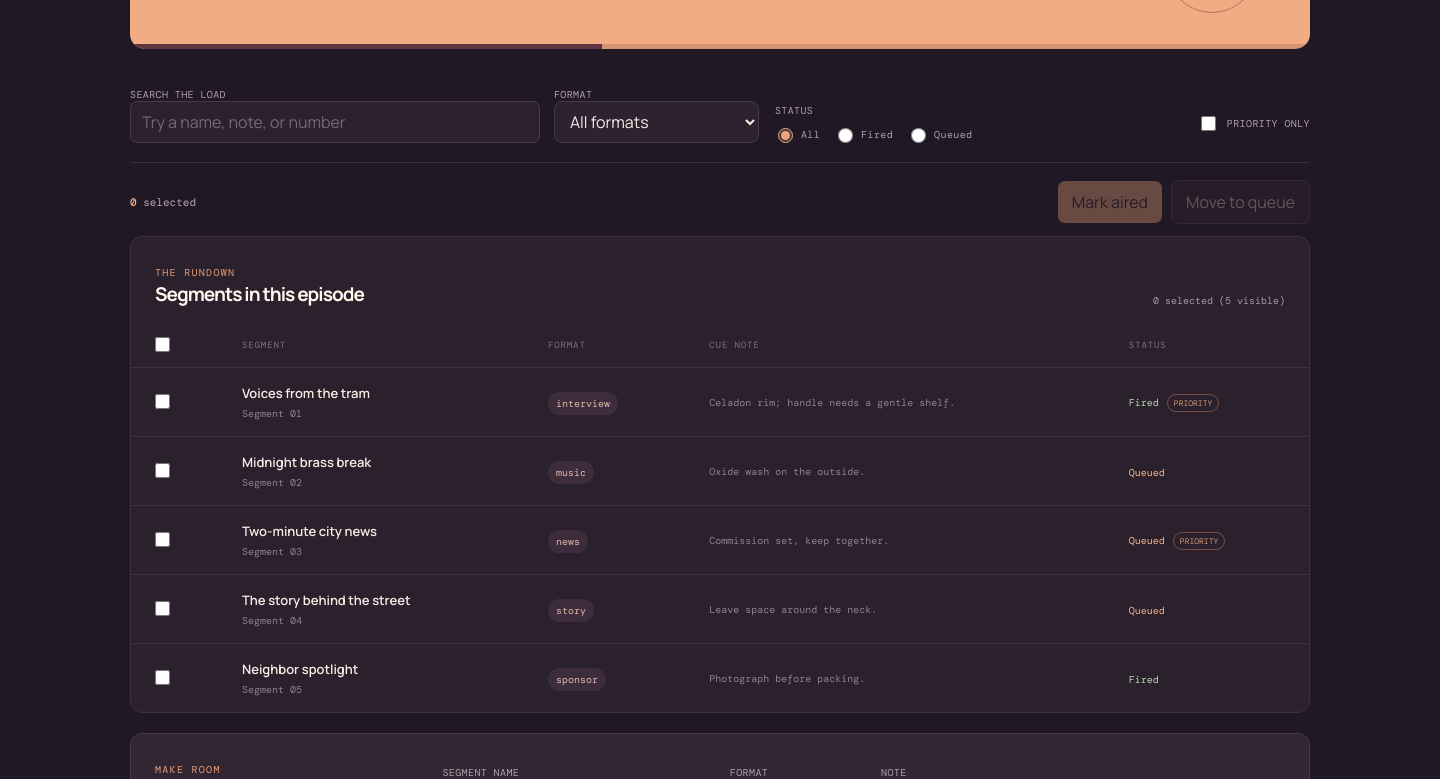
Test: RadioFable app › keeps selection when a status filter hides it
(page scrolled)
Click the checkbox named "Select Voices from the tram": (162, 402) [155,394,170,409]
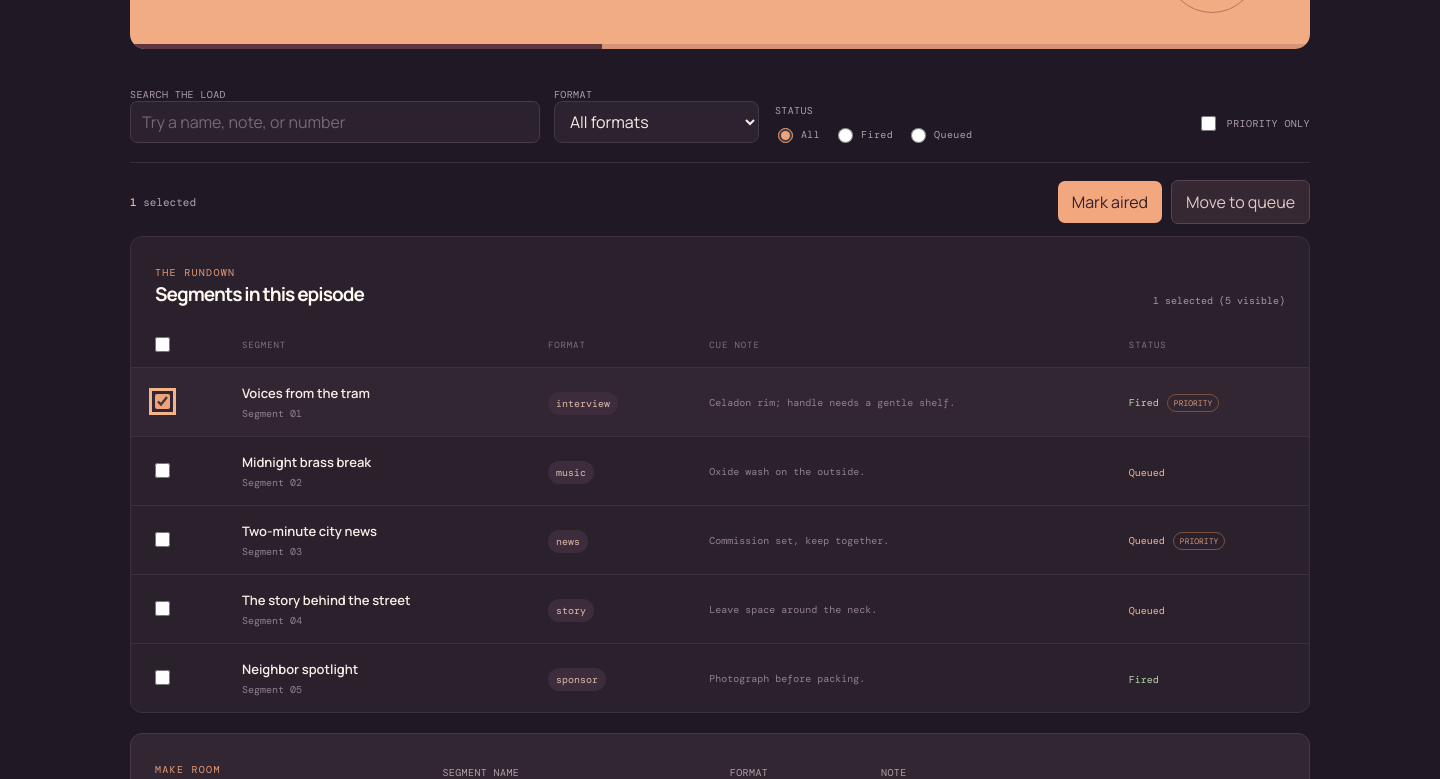
Click the radio button labelled "Queued": (919, 136) [911,128,926,143]
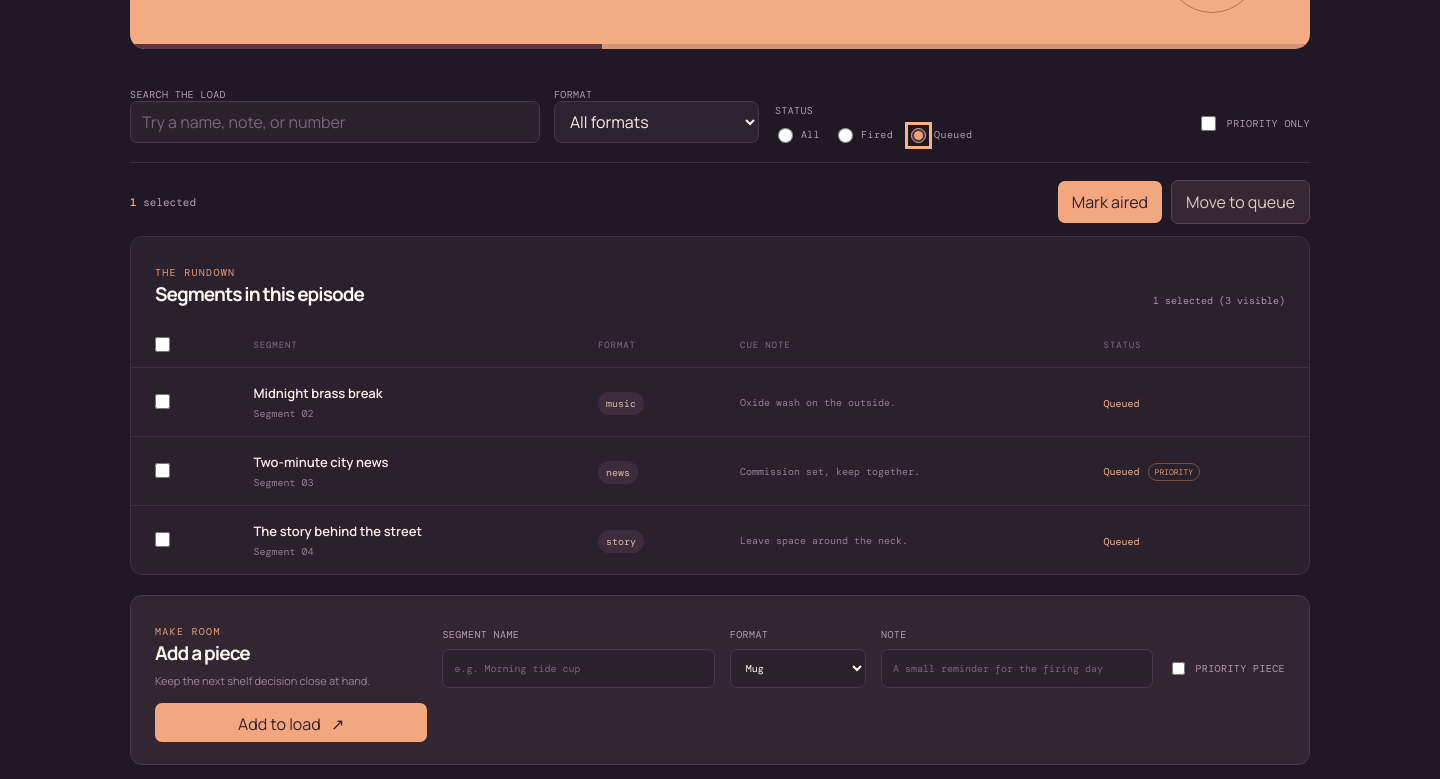
Expected: the text "1 selected (3 visible)" is shown, [1153,294,1285,307]
Click the radio button labelled "All": (785, 136) [778,128,793,143]
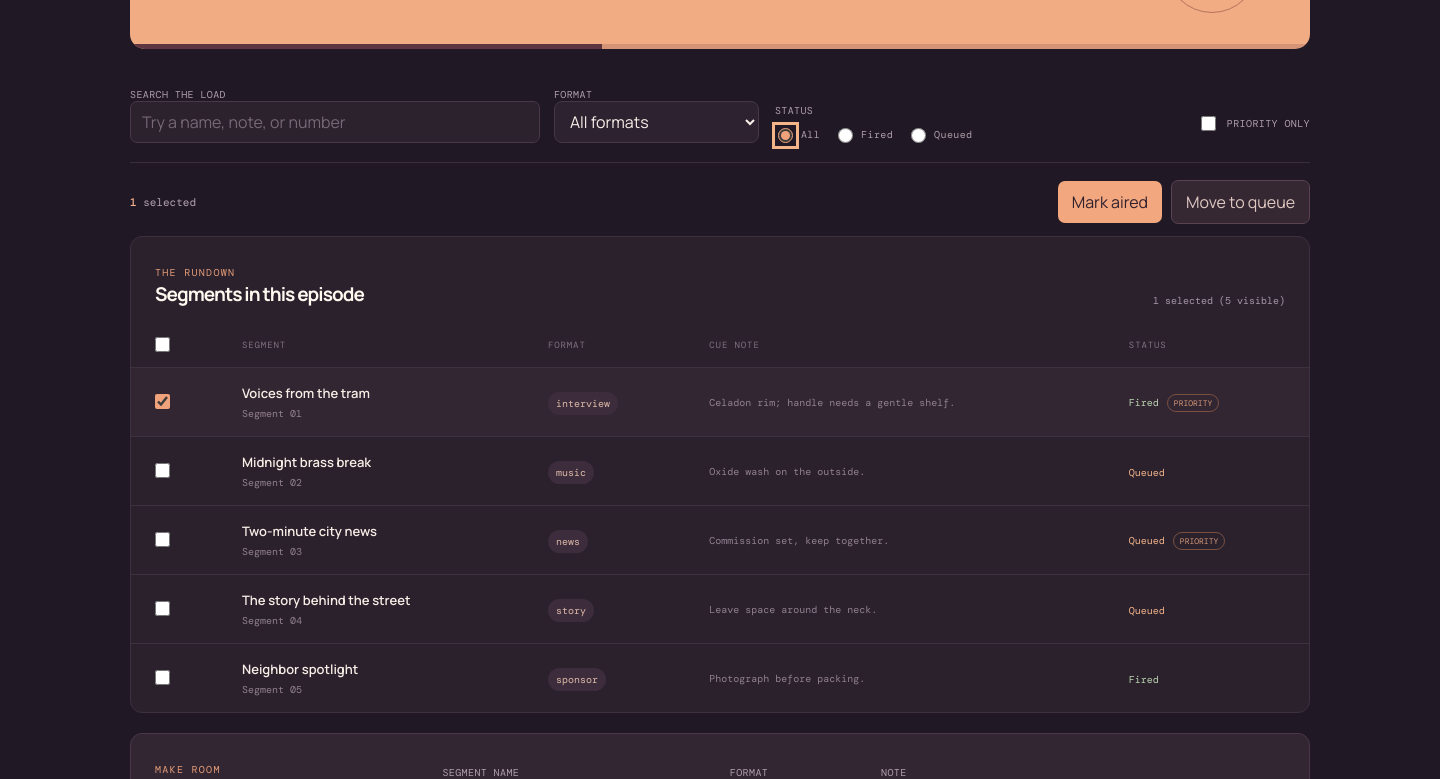
Expected: the checkbox named "Select Voices from the tram" is checked, [155,394,170,409]
